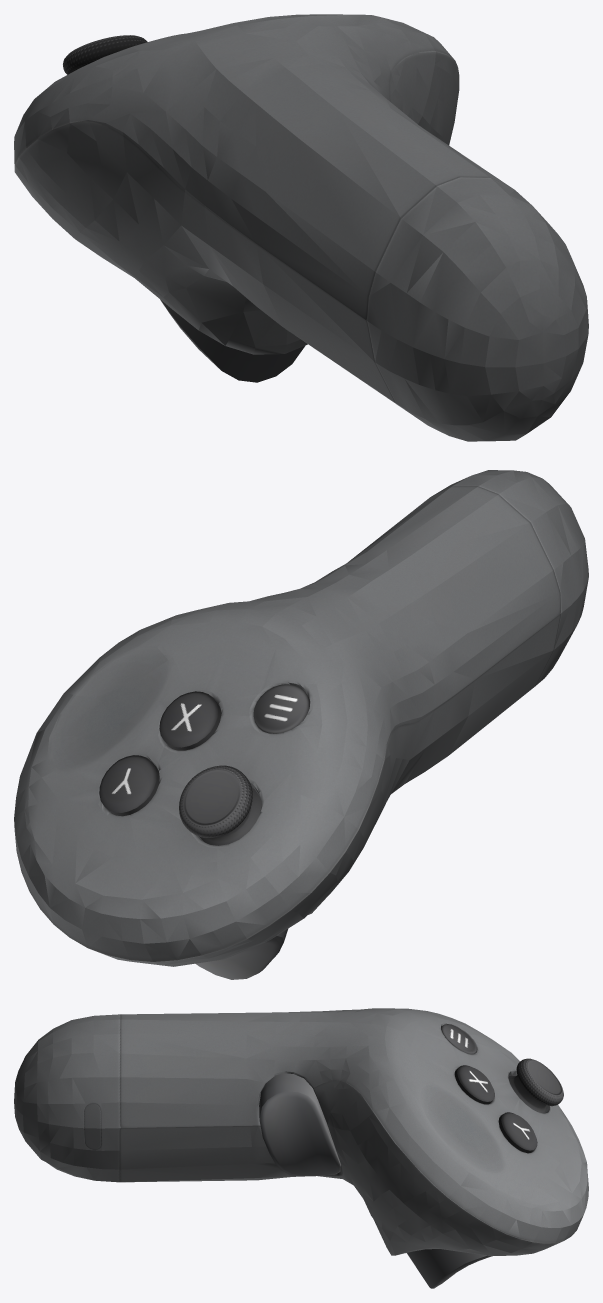
File: galaxy_xr_controller_left.obj
The picture shows the model from 3 angles, top to bottom: view 1: azimuth 30°, elevation 25°; view 2: azimuth 150°, elevation 25°; view 3: azimuth 270°, elevation 25°; orthographic projection. The views are drawn at different scales.
Bounding box in the file's own units: 0.0654 × 0.0623 × 0.1282.
1 material, 1 textured.
